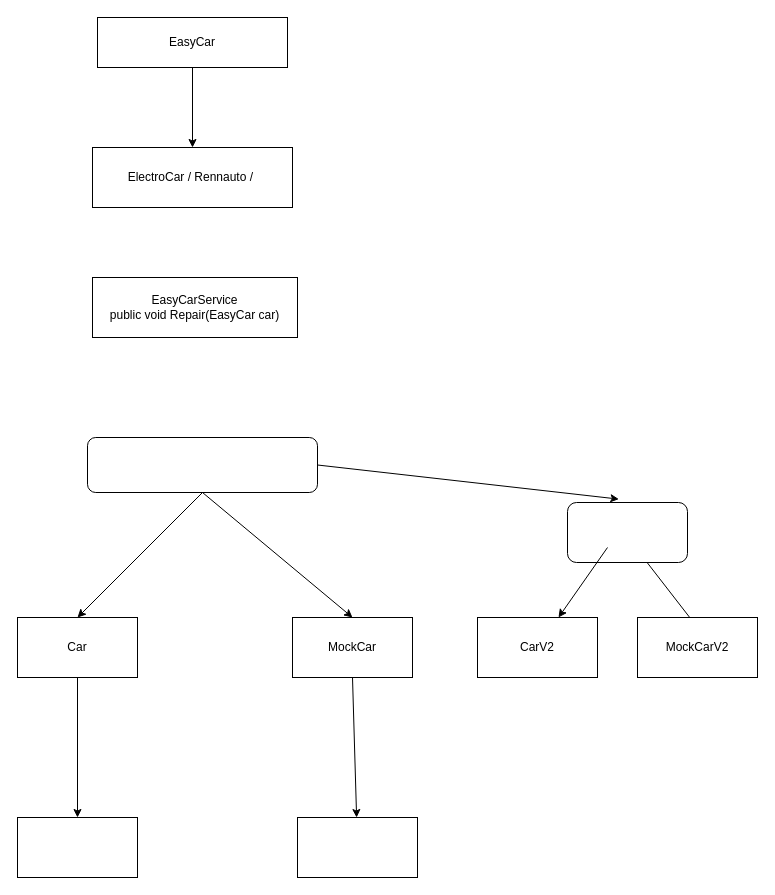
This 775x895 diagram has some shape labels left out. The shapes that lost their labels are listed below. From the top down, each one's centre as x and y in pixels, then its label:
(202,464): ICar
(627,532): ICarV2
(77,847): Rennauto
(357,847): MockRennauto
